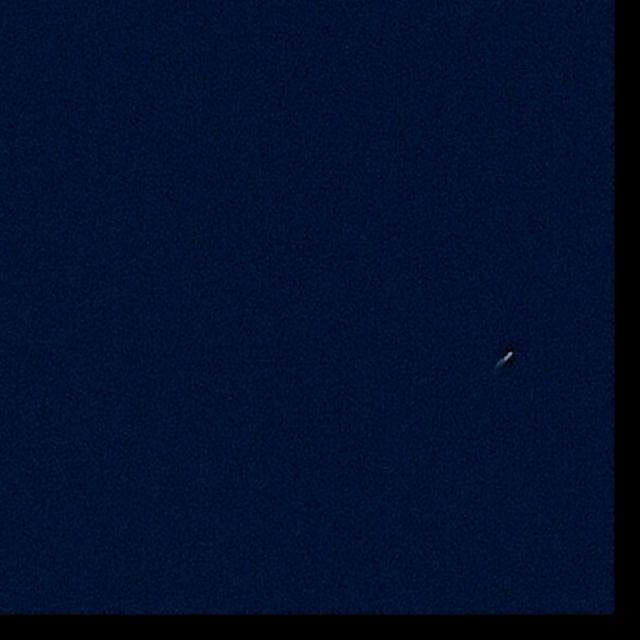ship: (504, 352, 514, 362)
